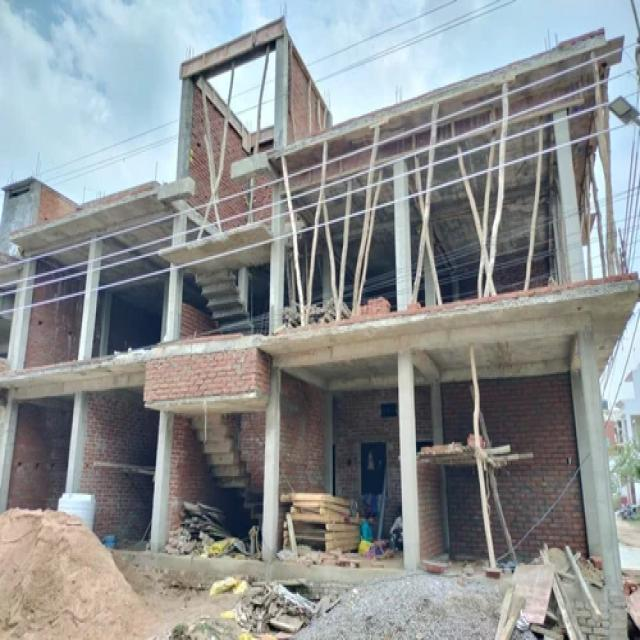Exterior Finishing: (101, 195, 558, 562)
